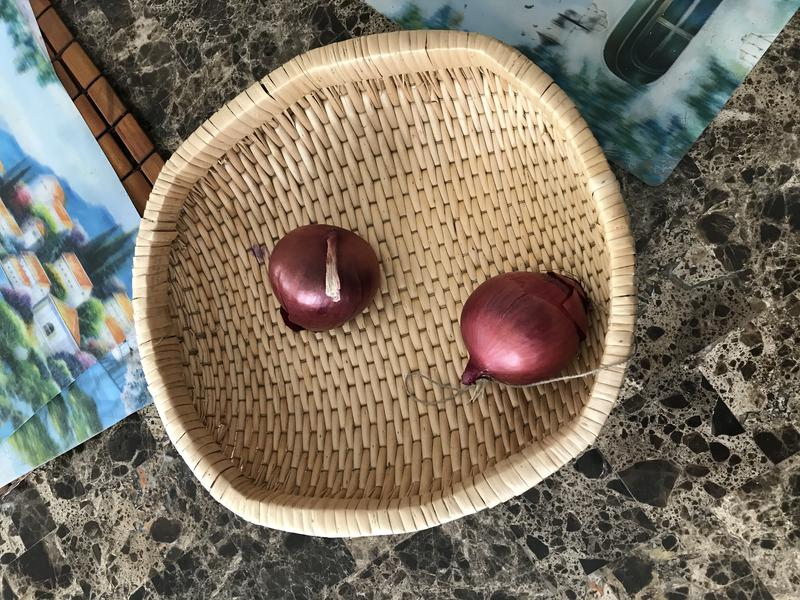purple_onion: (458, 260, 601, 402), (266, 223, 389, 353)
